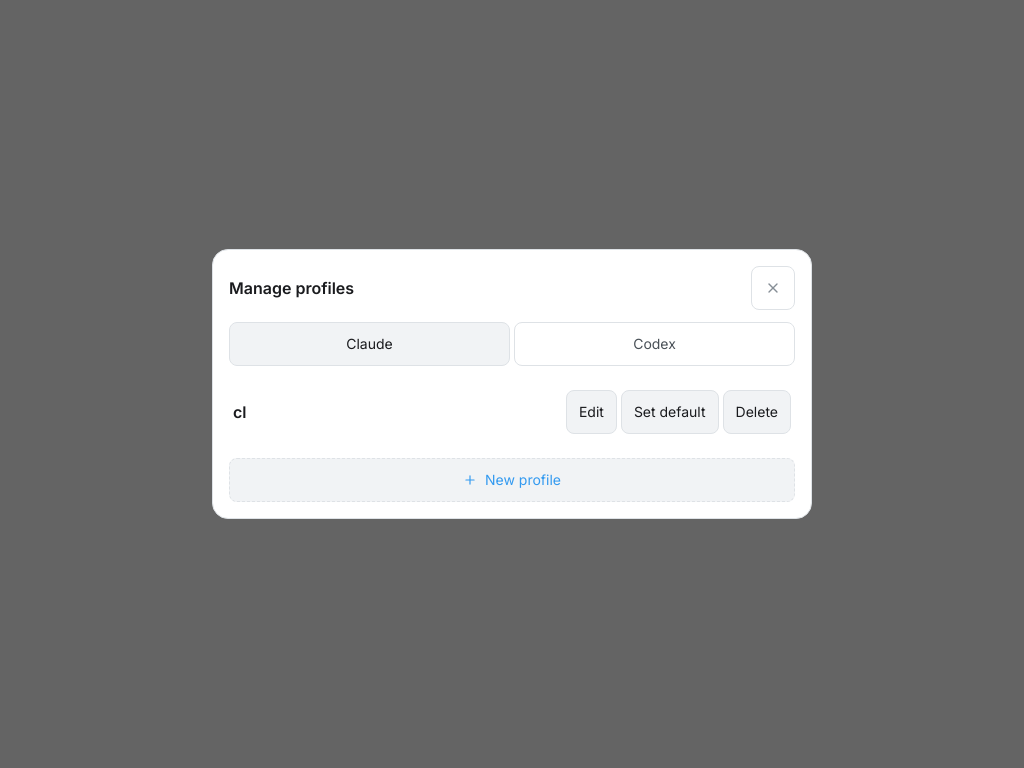
ProfileEditor › switching to Codex tab shows codex profiles only
Expected: the number of list items with test id "profile-row" is 1, left=229, top=378, right=795, bottom=446
Click the tab "Codex" at coordinates (654, 344), box left=514, top=322, right=795, bottom=366
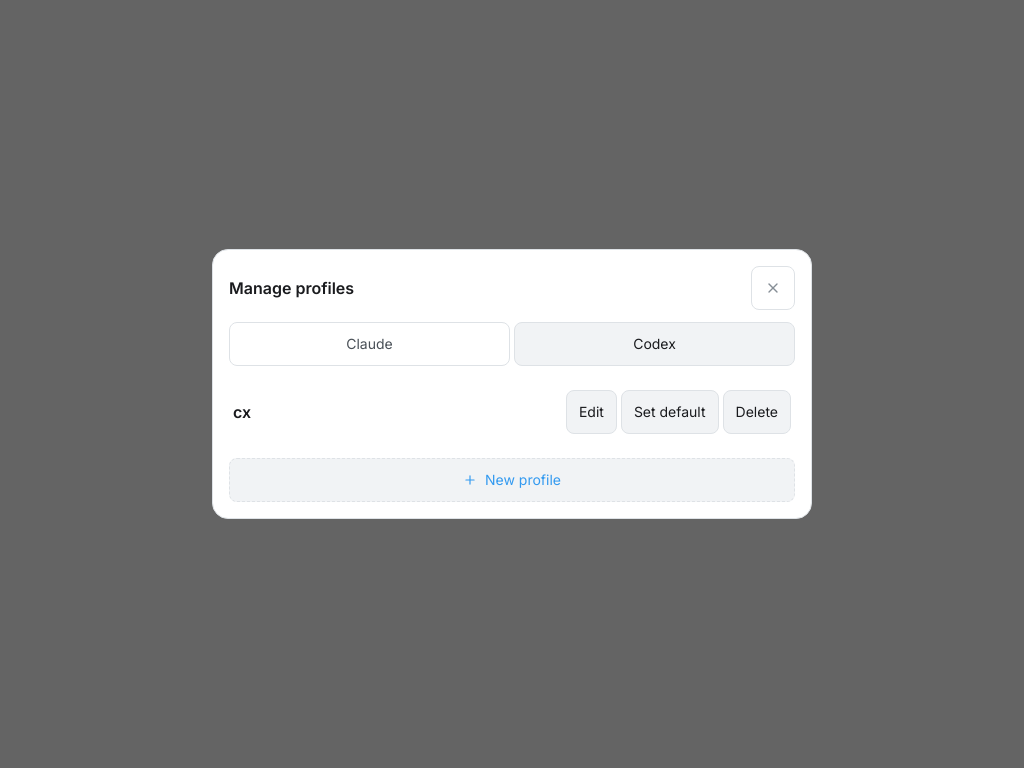
Expected: the number of list items with test id "profile-row" is 1, left=229, top=378, right=795, bottom=446
Now the list item with test id "profile-row" shows "cx", box left=233, top=402, right=251, bottom=422
